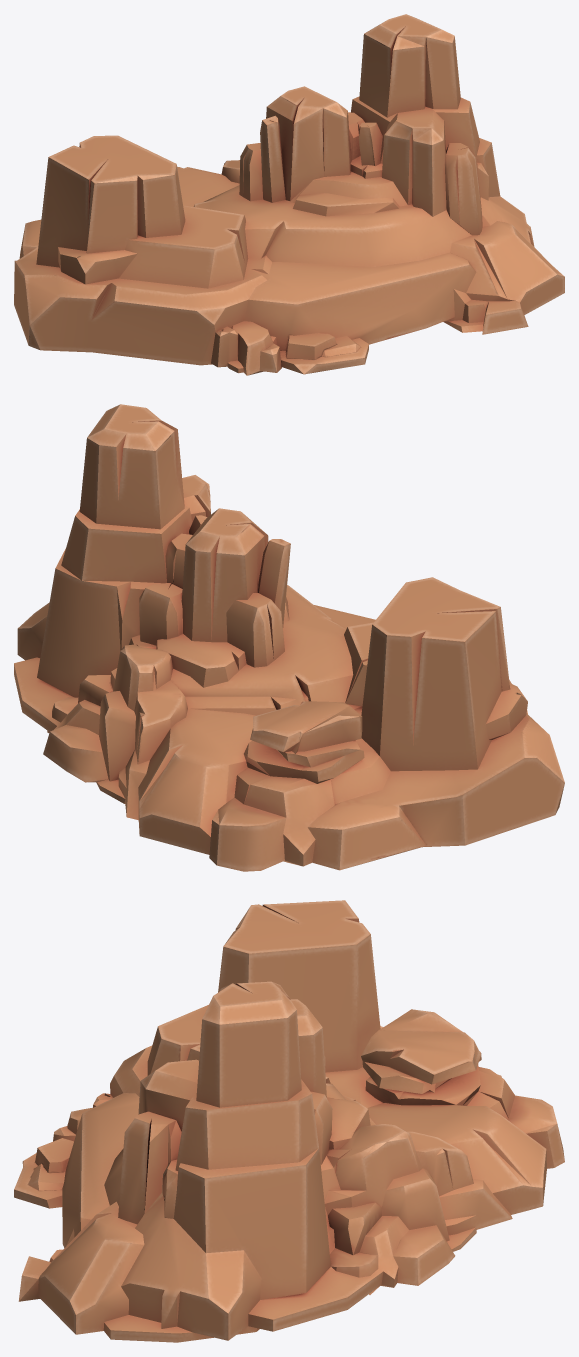
Rendered from rock_1.glb.
3 renders of one model, top to bottom at view 1: azimuth 30°, elevation 25°; view 2: azimuth 150°, elevation 25°; view 3: azimuth 270°, elevation 25°, orthographic. The views are drawn at different scales.
Visible parts, largest first — view 1: Rock_1; view 2: Rock_1; view 3: Rock_1.
Boxes of the visible parts, x1=… form: Rock_1: x1=14, y1=14, x2=564, y2=375; Rock_1: x1=14, y1=404, x2=564, y2=871; Rock_1: x1=14, y1=900, x2=564, y2=1342.
Bounding box in the file's own units: 26 × 12.84 × 21.07.
Materials: 1 (1 with a texture image).
